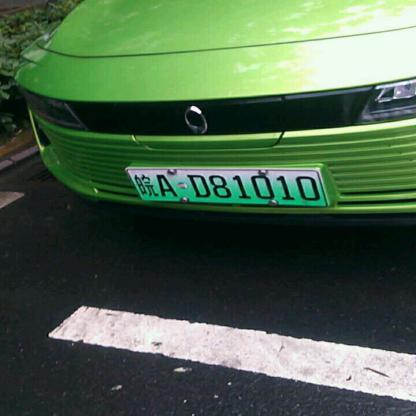lp: (127, 170, 325, 204)
